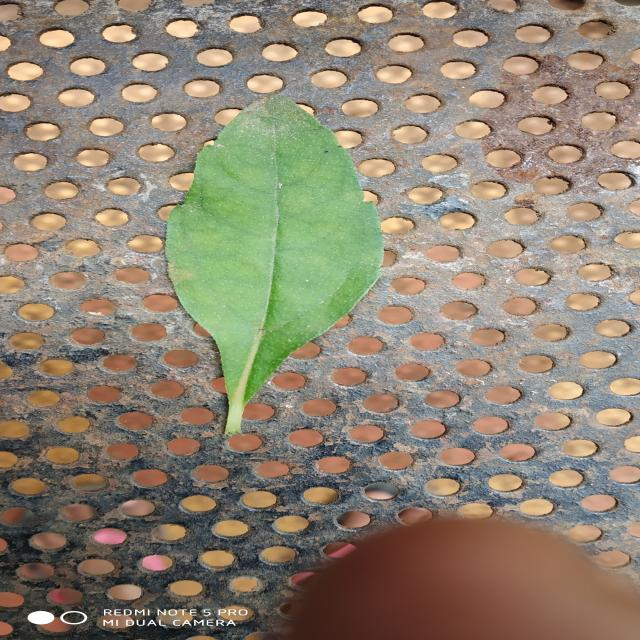bringaraja: (165, 95, 382, 434)
